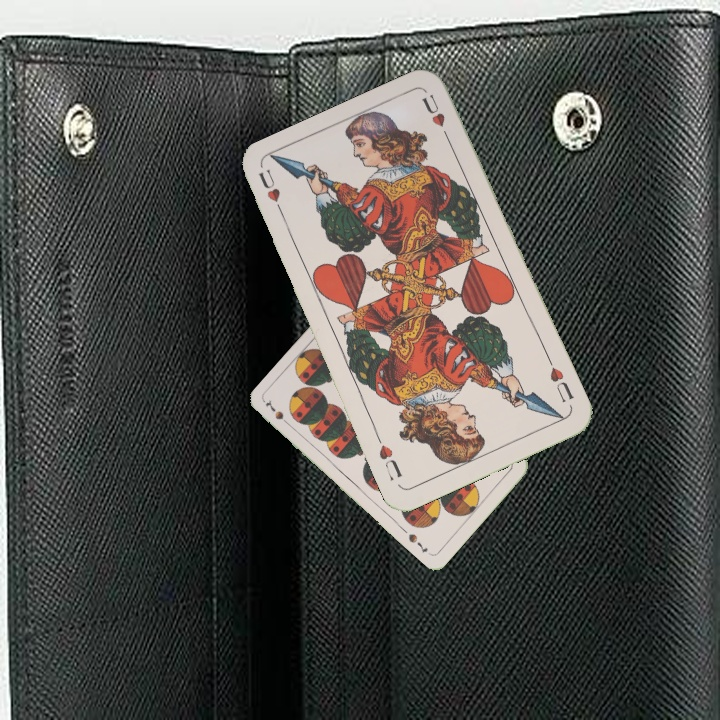HU: (254, 165, 288, 222), (543, 354, 576, 406)
S7: (261, 397, 295, 430)
